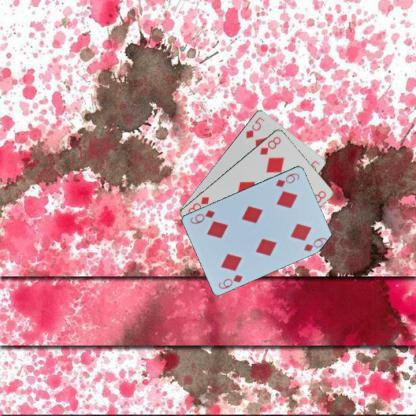5d: (243, 115, 266, 140)
6d: (216, 272, 245, 290), (272, 171, 302, 188)
8d: (257, 133, 282, 156)
